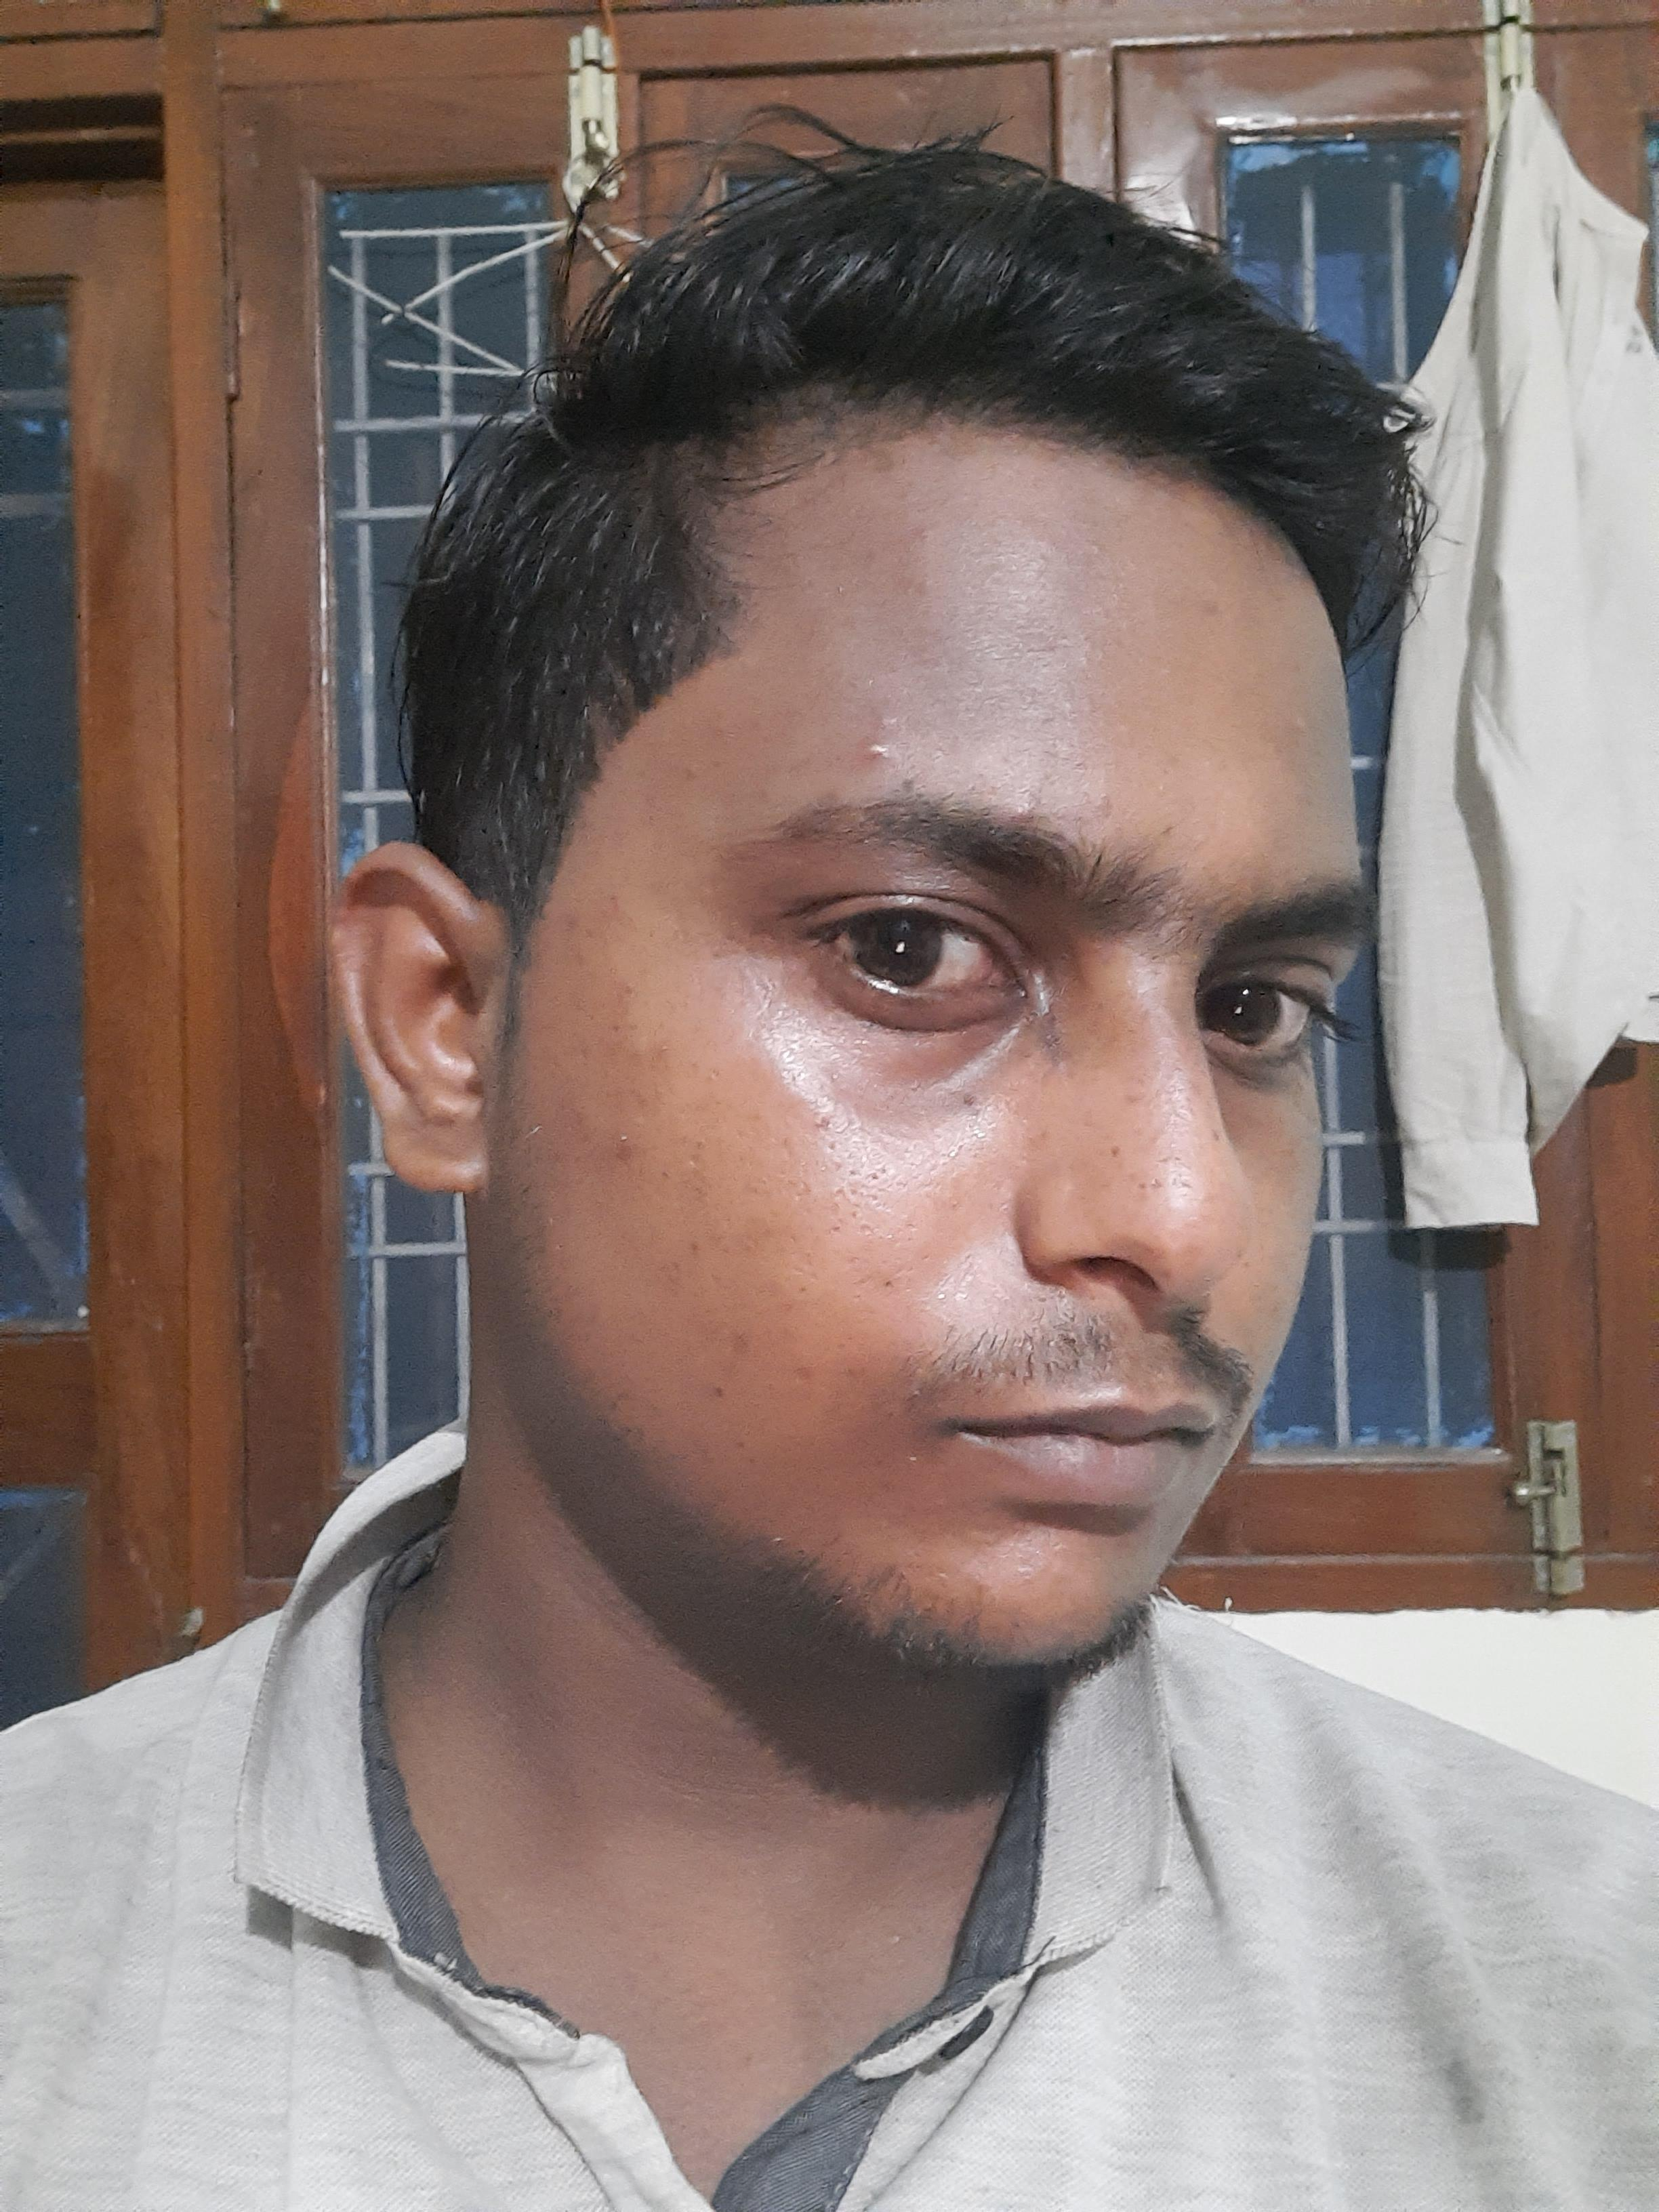Acne: (714, 1308, 774, 1364), (854, 718, 906, 770), (911, 516, 948, 547), (904, 568, 941, 597), (660, 1251, 690, 1287), (1286, 716, 1323, 744), (1089, 789, 1126, 812), (1012, 799, 1039, 831), (1197, 592, 1225, 620), (613, 1129, 641, 1153), (1148, 775, 1176, 798)
Englarged-Pores: (816, 1136, 936, 1266), (1115, 1144, 1201, 1217), (676, 1139, 730, 1205)
